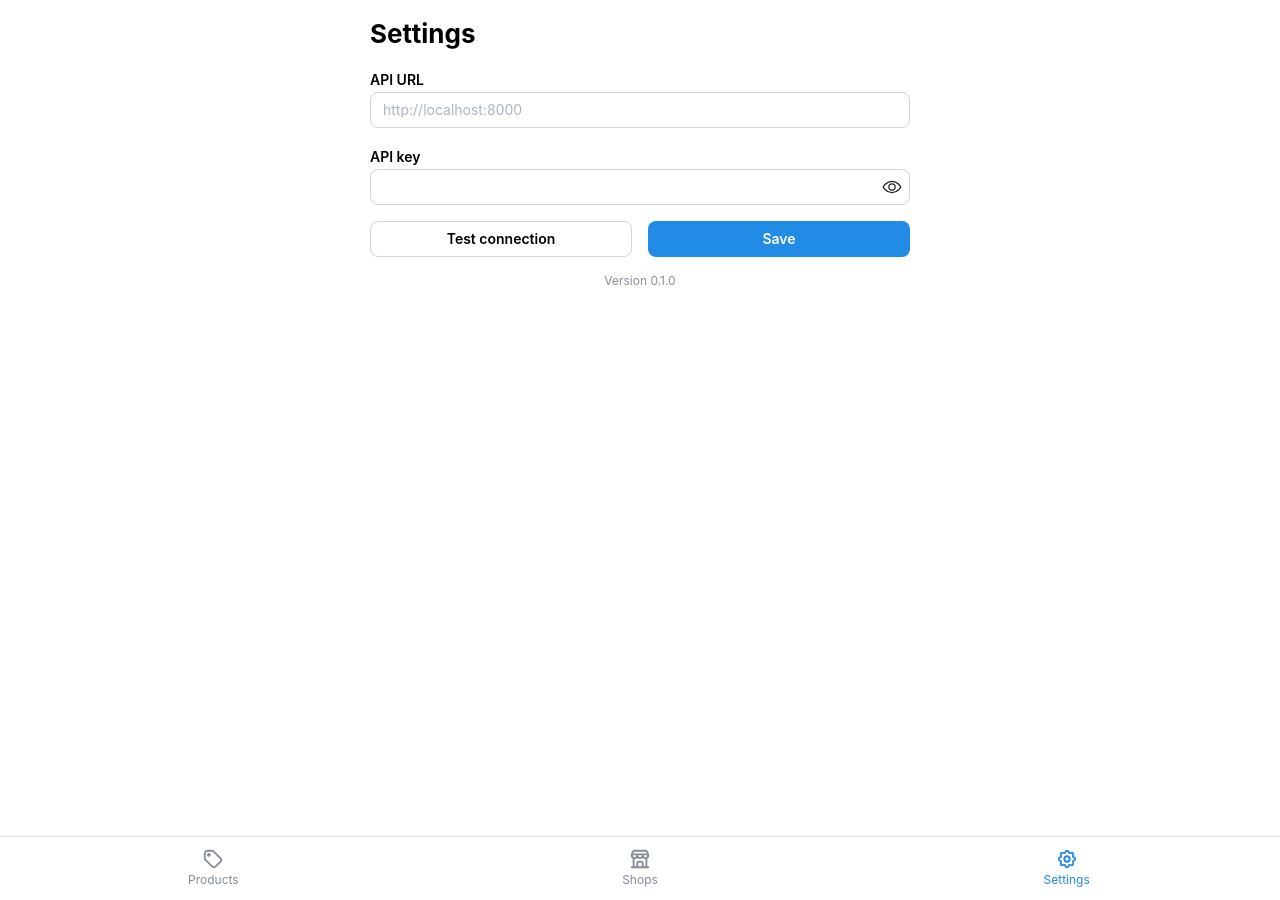
Test case: SettingsPage › reports a working connection
In the field labelled "API URL": (640, 110) [370,92,910,128], type "http://localhost:8000/"
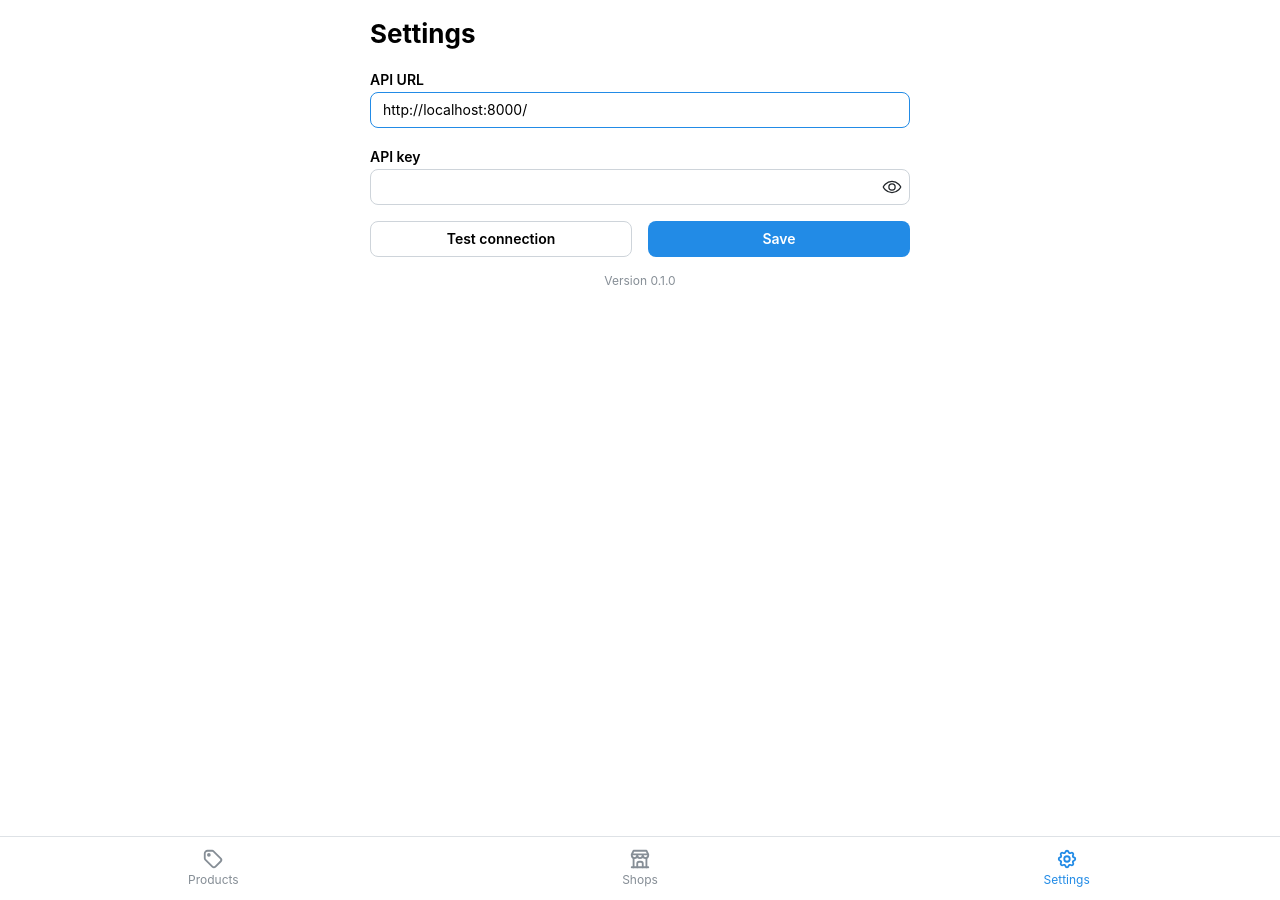
In the password field labelled "API key": (640, 187) [371,170,909,204], type "secret"
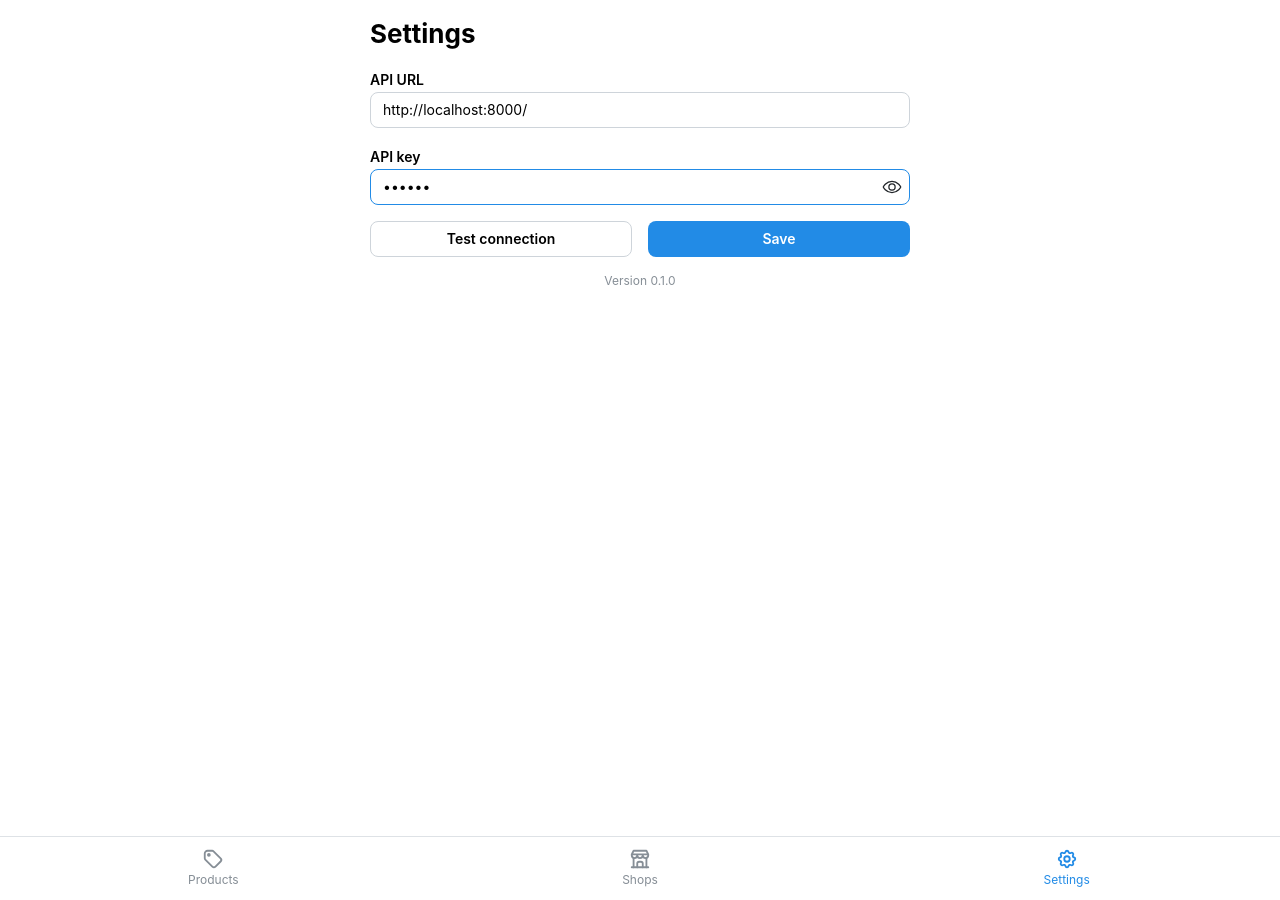
Click the button "Test connection": (501, 239) [370,221,632,257]
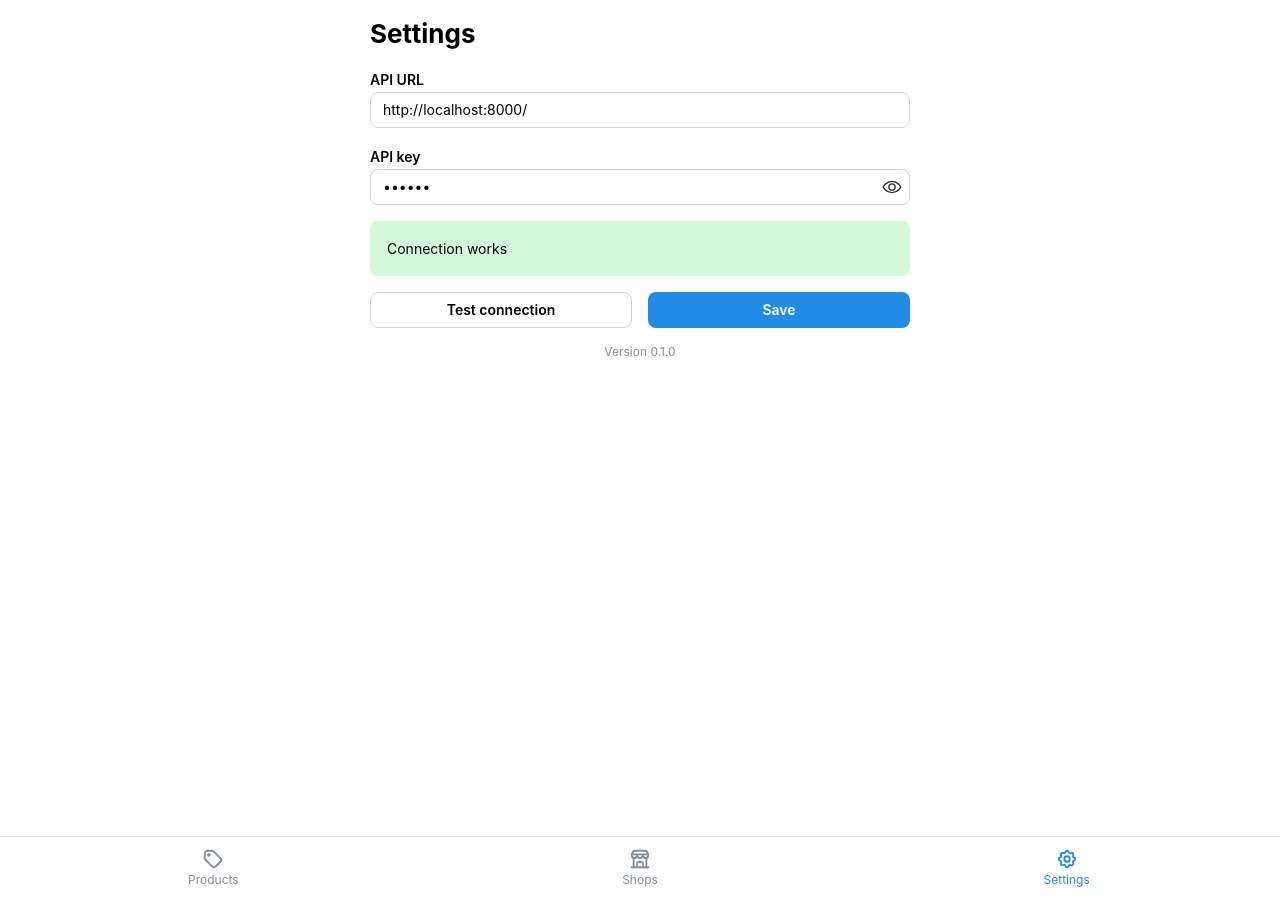
Result: the text "Connection works" is shown at [387,240,507,257]
